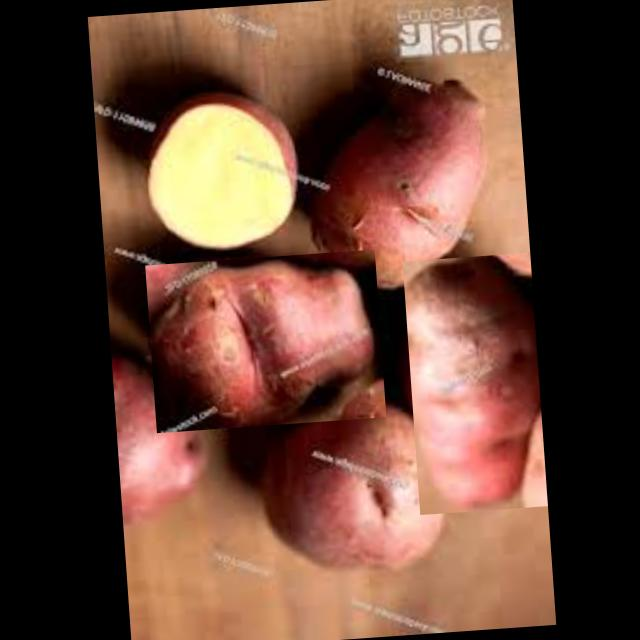Defected potato: (300, 76, 498, 300), (401, 252, 546, 514), (251, 398, 454, 584)
Diseased-fungal potato: (144, 248, 385, 432)
